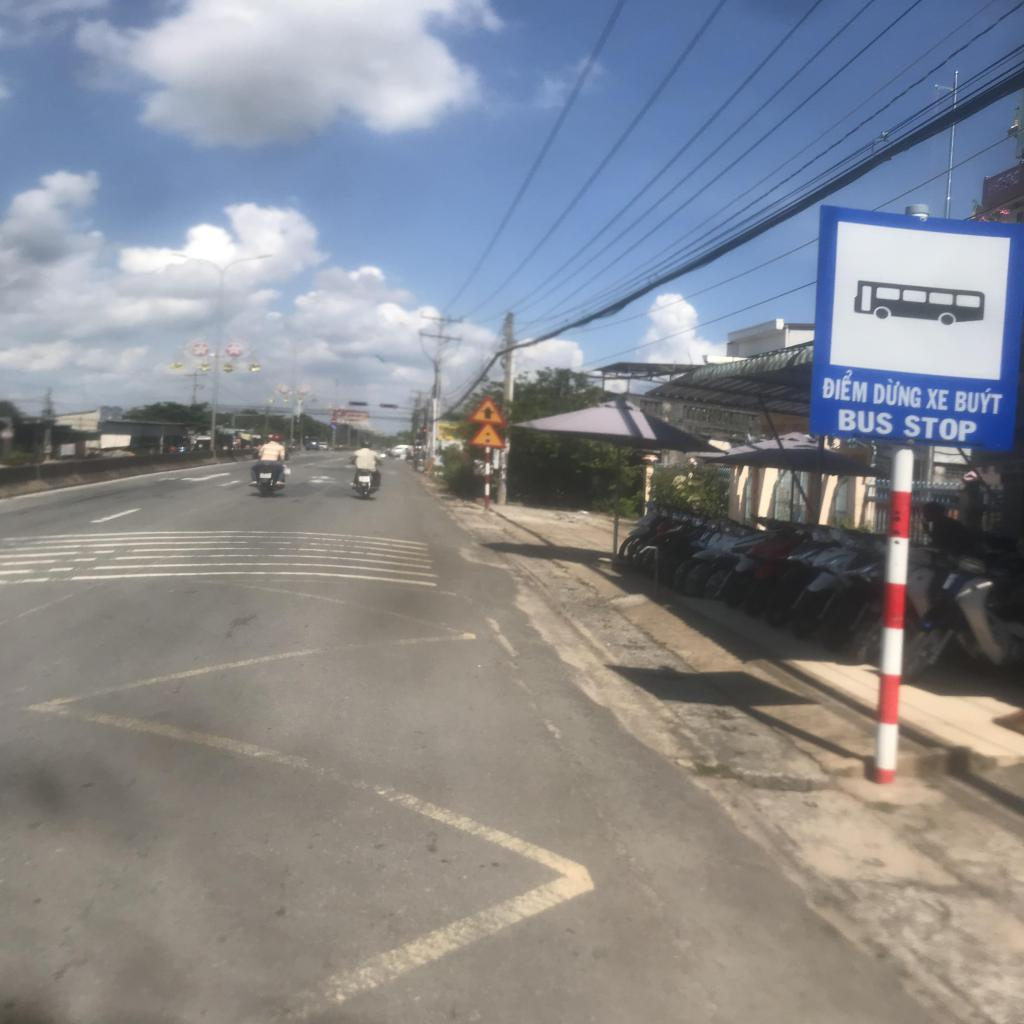cam_xe_di_nguoc_chieu: (330, 418, 338, 424)
giao_nhau_co_tin_hieu_den: (469, 421, 508, 449)
giao_nhau_voi_duong_khong_uu_tien: (466, 396, 510, 426)
huong_phai_di_vuot_chuong_ngai_vat_phai: (330, 424, 338, 429)
khac: (808, 206, 1024, 451)
